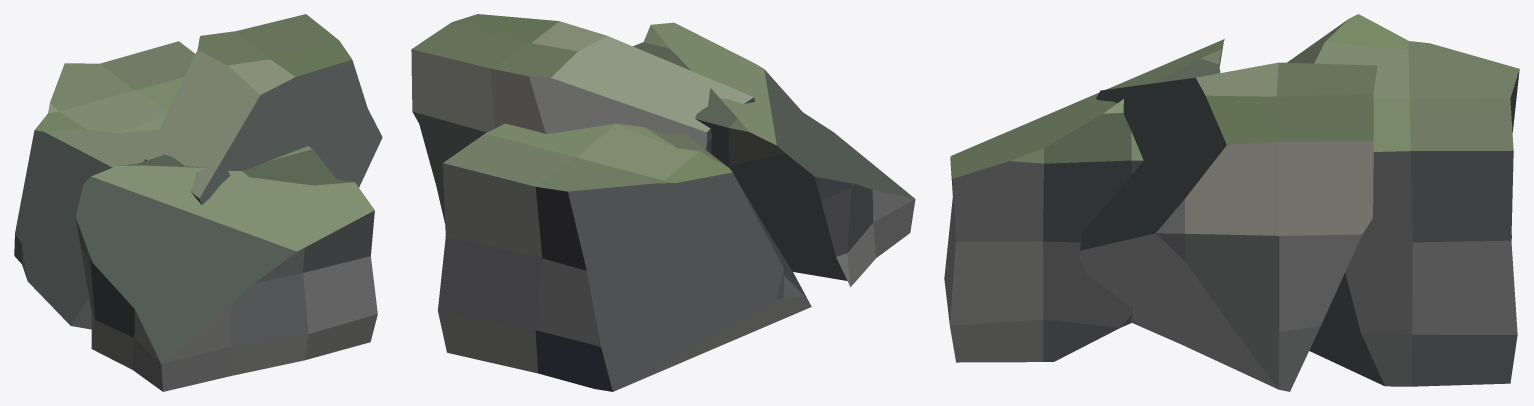
The picture shows the model from 3 angles, left to right: view 1: azimuth 30°, elevation 25°; view 2: azimuth 150°, elevation 25°; view 3: azimuth 270°, elevation 25°; orthographic projection. The views are drawn at different scales.
Parts seen in each view (by area): view 1: env_cliff_rock; view 2: env_cliff_rock; view 3: env_cliff_rock.
Boxes of the visible parts, box(x1,y1,x2,y2) form: env_cliff_rock: box(14, 14, 382, 391); env_cliff_rock: box(411, 14, 915, 391); env_cliff_rock: box(944, 14, 1519, 391).
Size of the model in its own units: 3.68 by 2.39 by 4.14.
